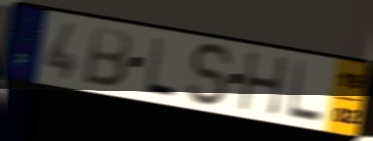4: (41, 20, 79, 82)
B: (79, 23, 134, 90)
H: (237, 50, 291, 118)
L: (285, 57, 324, 126), (141, 34, 179, 101)
S: (185, 41, 237, 108)
